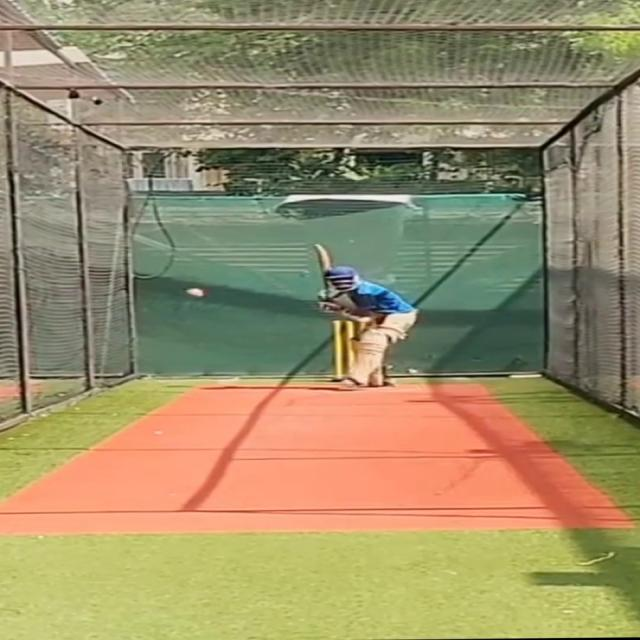ball: (181, 286, 204, 298)
stump: (332, 319, 358, 381)
